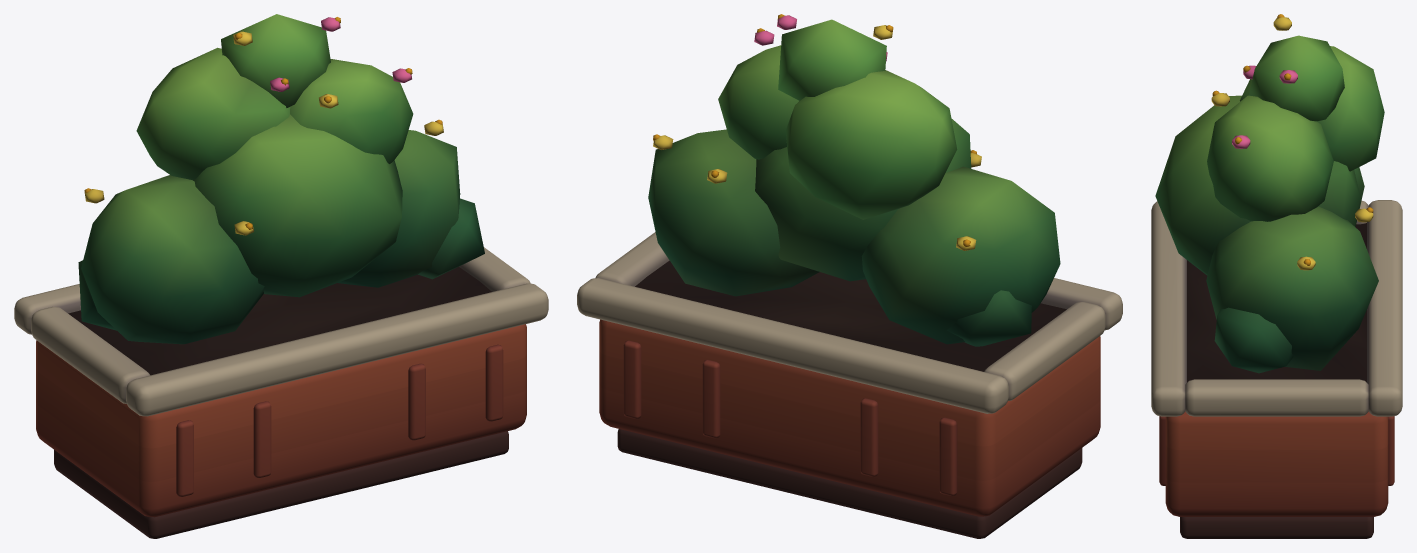
The model's file is jardiniere.glb.
The picture shows the model from 3 angles, left to right: view 1: azimuth 30°, elevation 25°; view 2: azimuth 150°, elevation 25°; view 3: azimuth 270°, elevation 25°; orthographic projection. The views are drawn at different scales.
Parts seen in each view (by area): view 1: jardiniere; view 2: jardiniere; view 3: jardiniere.
Boxes of the visible parts, x1=… form: jardiniere: x1=14, y1=14, x2=548, y2=538; jardiniere: x1=577, y1=14, x2=1122, y2=538; jardiniere: x1=1151, y1=14, x2=1402, y2=538.
Bounding box in the file's own units: 1.28 × 1.3 × 0.7.
